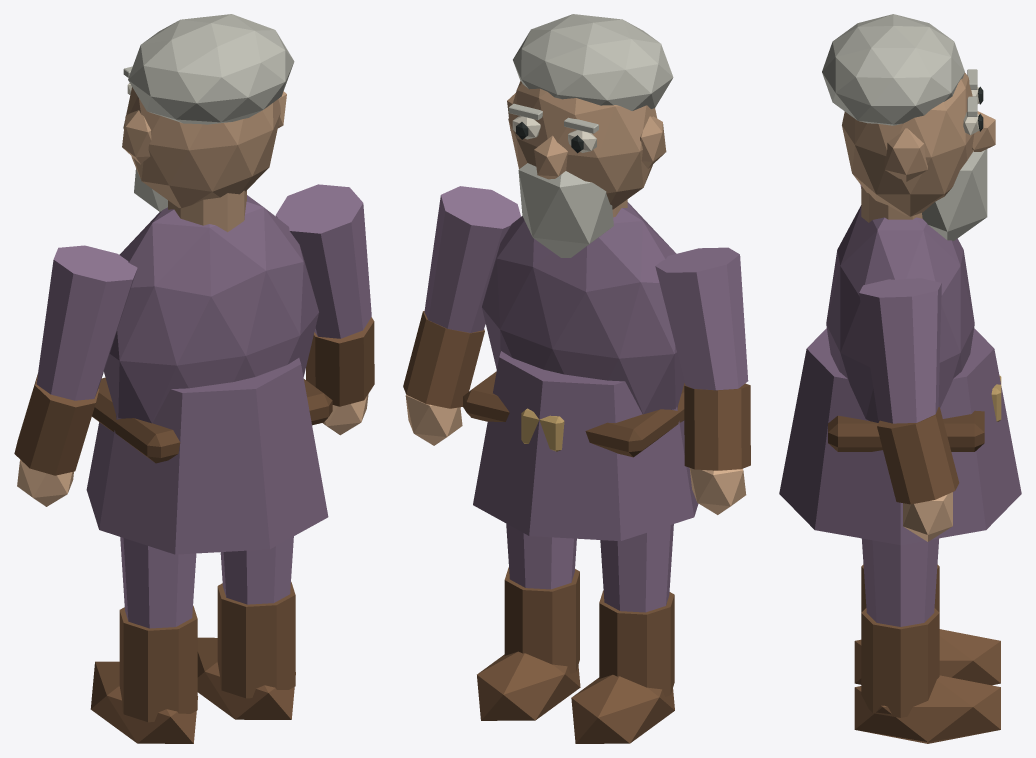
Rendered from elder.glb.
The picture shows the model from 3 angles, left to right: view 1: azimuth 30°, elevation 25°; view 2: azimuth 150°, elevation 25°; view 3: azimuth 270°, elevation 25°; orthographic projection. The views are drawn at different scales.
Visible parts, largest first — view 1: Body, Sleeve.001, Trouser.001, Sleeve, Trouser; view 2: Body, Sleeve.001, Trouser.001, Sleeve, Trouser; view 3: Body, Trouser, Sleeve, Trouser.001.
Boxes of the visible parts, x1,y1,x2,y2 form: Body: (86, 14, 332, 554); Sleeve.001: (14, 245, 137, 506); Trouser.001: (90, 537, 197, 743); Sleeve: (275, 184, 374, 435); Trouser: (197, 536, 295, 719); Body: (463, 14, 698, 541); Sleeve.001: (655, 247, 750, 514); Trouser.001: (571, 524, 674, 743); Sleeve: (403, 186, 520, 445); Trouser: (477, 523, 580, 720); Body: (779, 14, 1021, 544); Trouser: (854, 538, 1000, 743); Sleeve: (859, 278, 959, 541); Trouser.001: (854, 564, 1000, 685).
Bounding box in the file's own units: 1 × 1.96 × 0.62.
